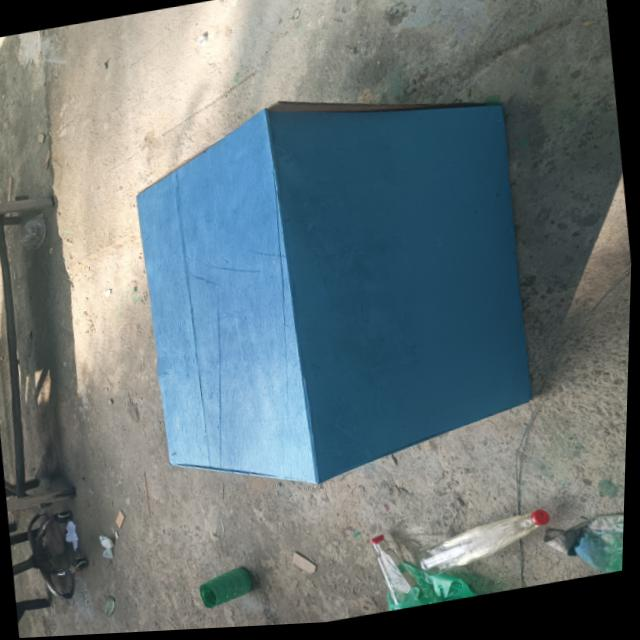blue_box: (115, 70, 545, 491)
